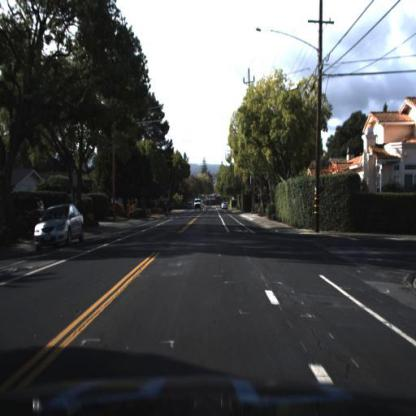biker: (165, 198, 174, 219)
car: (31, 200, 86, 259), (107, 200, 132, 223), (193, 194, 207, 217), (222, 201, 232, 213)
